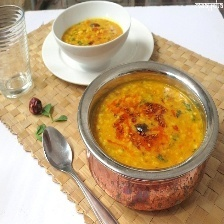dal: (59, 15, 125, 48)
